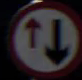Two way: (11, 3, 74, 67)
